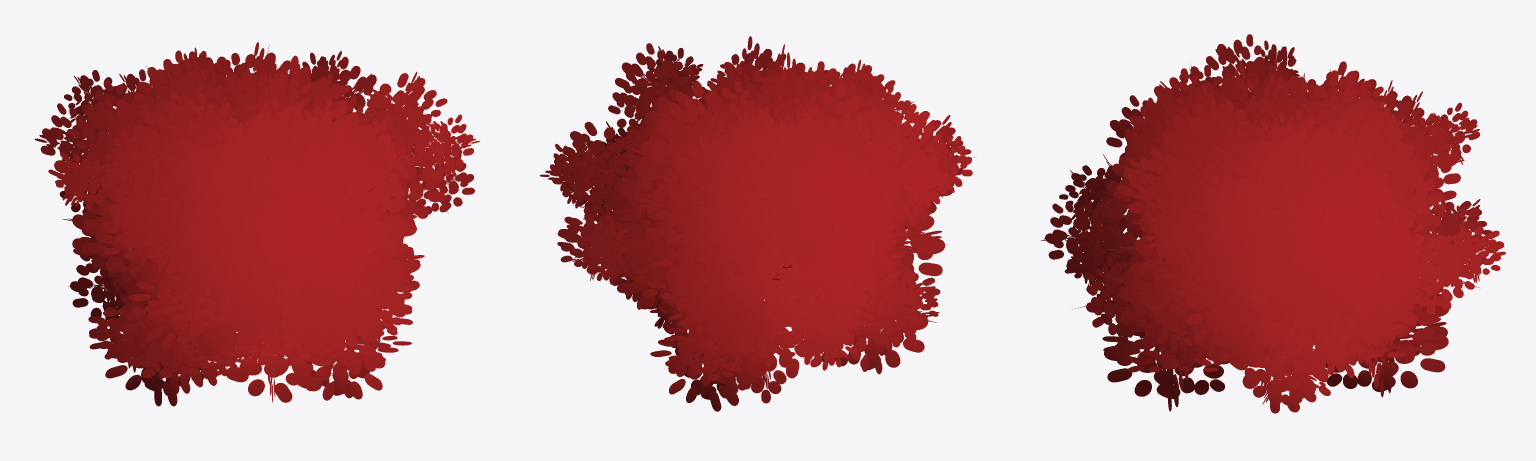
The model's file is Bush_Common.gltf.
The picture shows the model from 3 angles, left to right: view 1: azimuth 30°, elevation 25°; view 2: azimuth 150°, elevation 25°; view 3: azimuth 270°, elevation 25°; orthographic projection. The views are drawn at different scales.
Visible parts, largest first — view 1: Bush_Common; view 2: Bush_Common; view 3: Bush_Common.
Boxes of the visible parts, x1,y1,x2,y2 form: Bush_Common: (34,42,479,406); Bush_Common: (539,36,974,411); Bush_Common: (1041,34,1505,413).
Size of the model in its own units: 1.91 by 1.58 by 1.97.
Materials: 1 (1 with a texture image).
